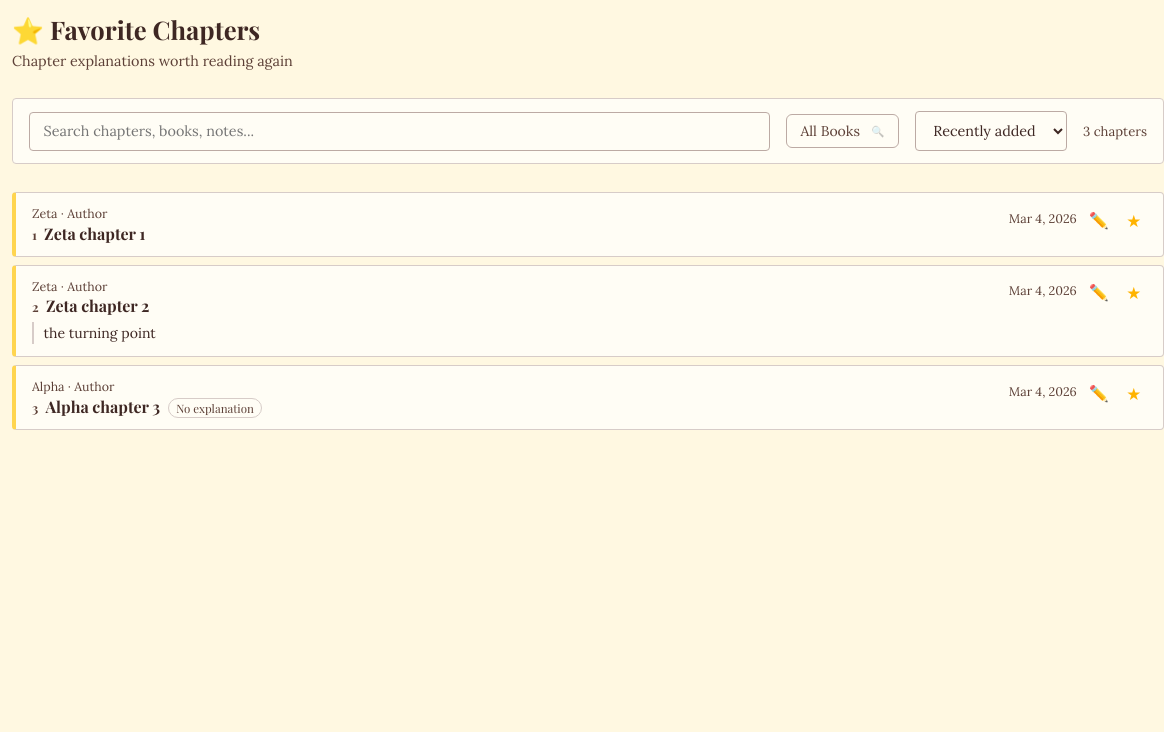
Test: FavoritesPage › lists favorite chapters of every book, newest first or grouped by book
Expected: the text "the turning point" is shown, [44, 324, 156, 342]
Expected: the text "3 chapters" is shown, [1083, 123, 1147, 140]
Step 1. Select "By book" in the dropdown named "Sort" → point(991, 131), box [915, 111, 1067, 151]
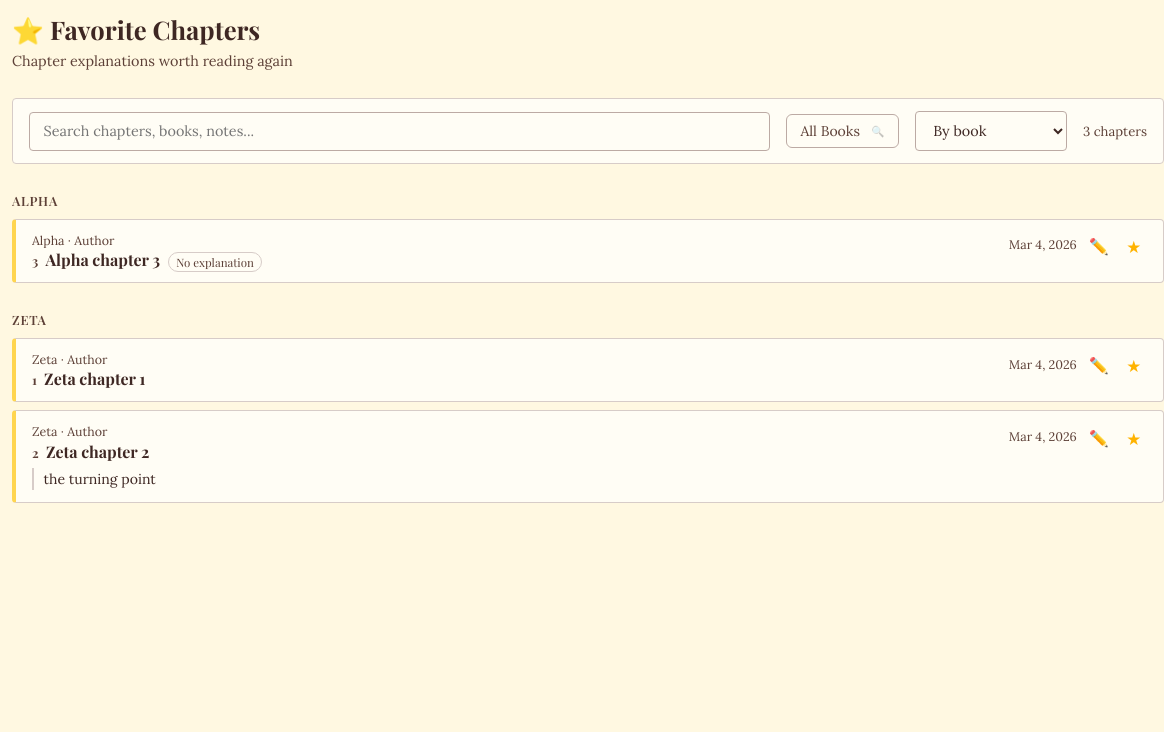
Expected: the headings read "Alpha", "Zeta", in this order, [12, 192, 58, 209]; [12, 311, 47, 328]
